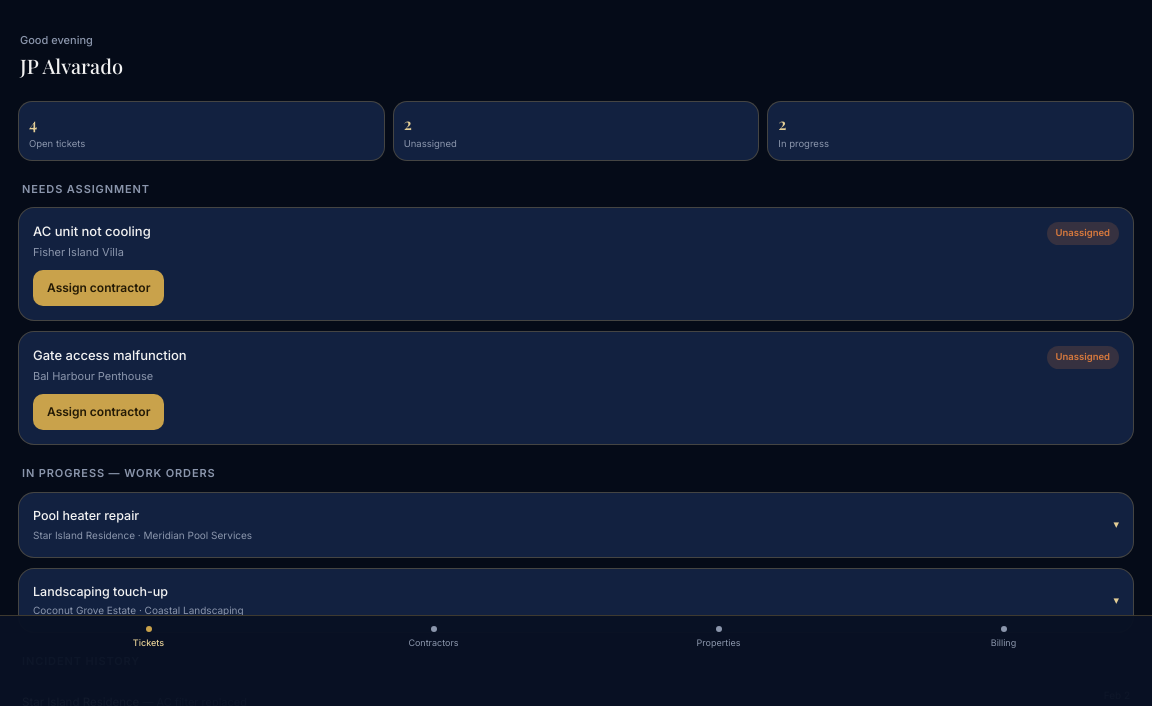
Test: Admin: Ticket assignment flow (end to end through the UI) › tapping Notify on an in-progress ticket shows a WhatsApp confirmation toast
// Expand the first in-progress ticket to reveal its actions
Step 1. Click the text "Pool heater repair" → (86, 515), box [33,508,139,523]
(page scrolled)
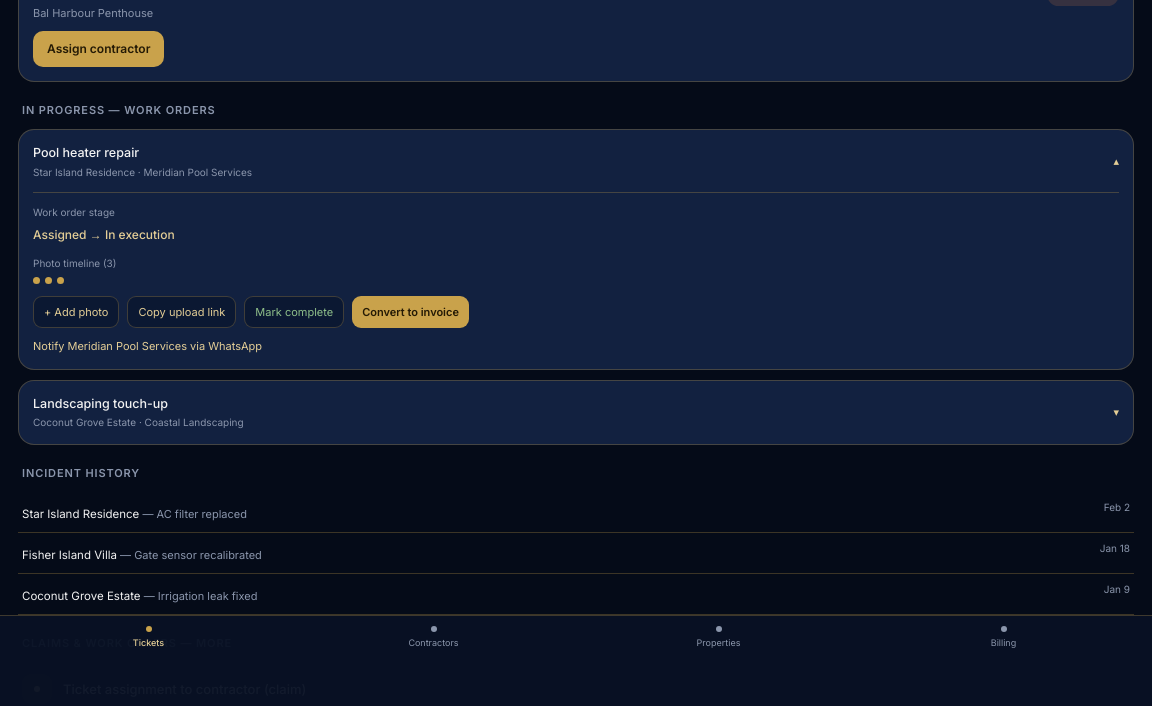
Step 2. Click the text "Notify Meridian Pool Services via WhatsApp" → (148, 346), box [33,339,262,353]
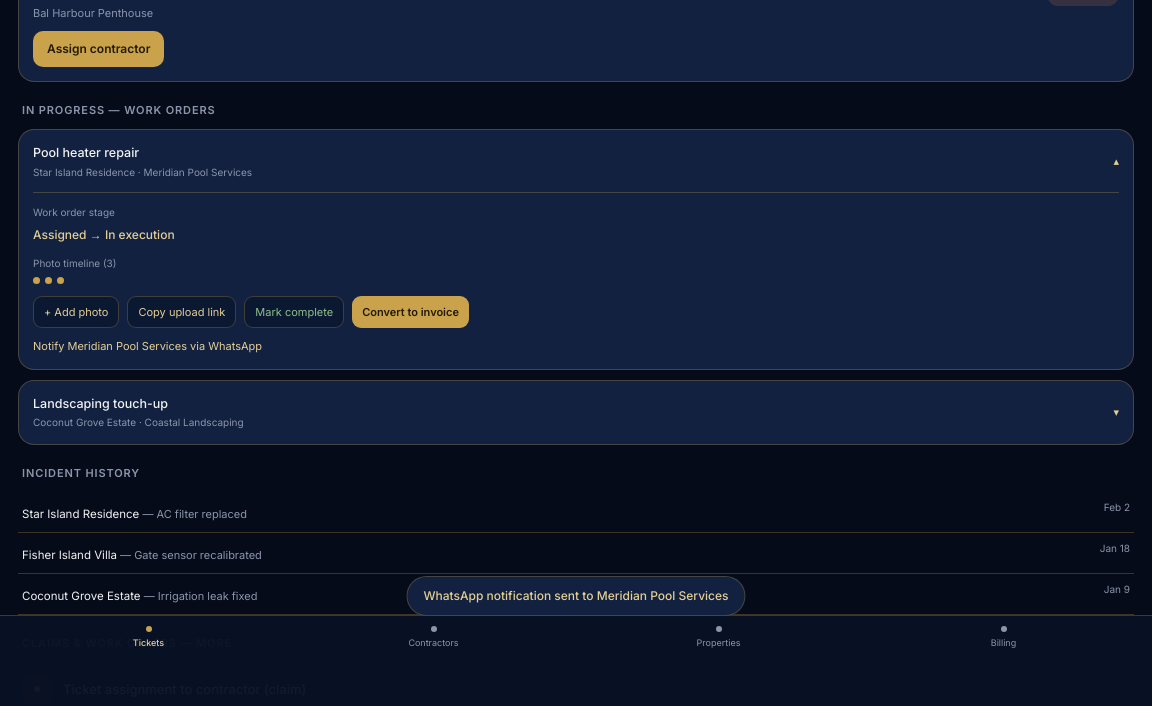
Now the text "WhatsApp notification sent to Meridian Pool Services" is shown, box [406,576,746,616]
